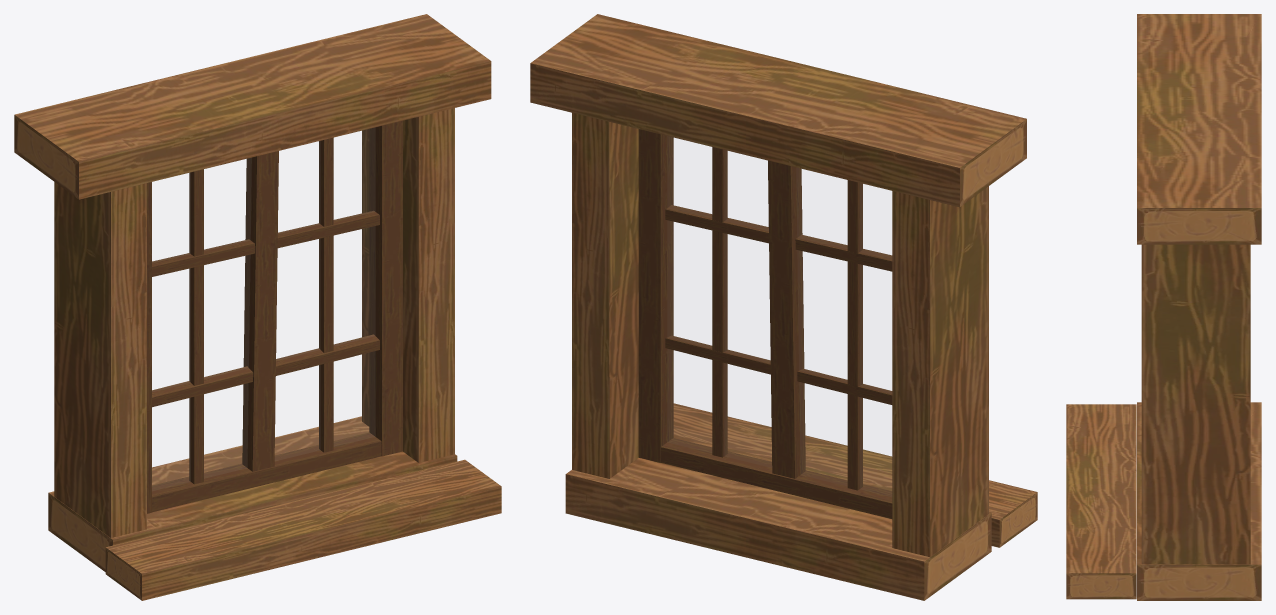
File: Window_Wide_Flat1.glb
3 renders of one model, left to right at view 1: azimuth 30°, elevation 25°; view 2: azimuth 150°, elevation 25°; view 3: azimuth 270°, elevation 25°, orthographic. The views are drawn at different scales.
Parts seen in each view (by area): view 1: Window_Wide_Flat1; view 2: Window_Wide_Flat1; view 3: Window_Wide_Flat1.
Boxes of the visible parts, bbox=[...] form: Window_Wide_Flat1: bbox=[14, 14, 501, 600]; Window_Wide_Flat1: bbox=[530, 14, 1037, 600]; Window_Wide_Flat1: bbox=[1066, 14, 1261, 600].
Bounding box in the file's own units: 1.61 × 1.58 × 0.6835.
2 materials, 1 textured.
